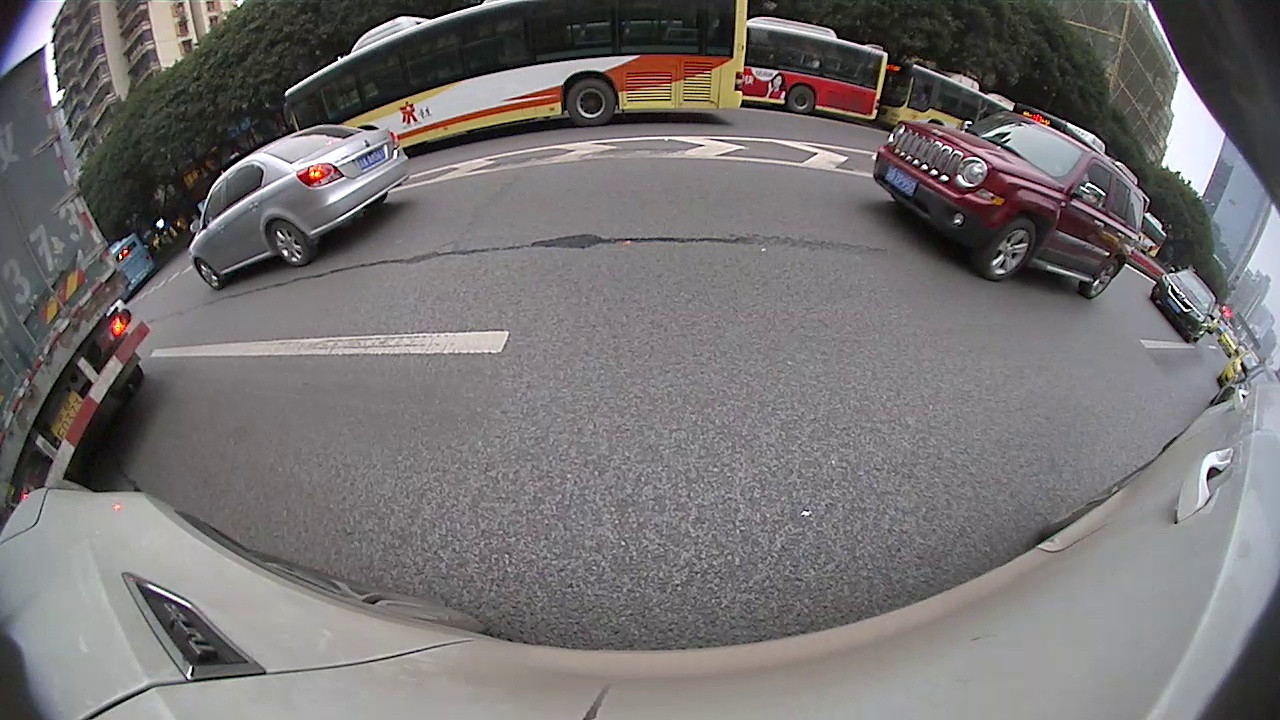bus: (283, 1, 750, 151), (741, 22, 889, 124), (880, 59, 1013, 129), (106, 238, 149, 300)
car: (871, 109, 1140, 302), (189, 120, 408, 293), (1153, 271, 1222, 343)
front: (968, 213, 1039, 282), (193, 257, 225, 293)
rear: (565, 76, 618, 128), (267, 217, 320, 268), (1077, 256, 1121, 301), (786, 84, 817, 116)
truck: (1, 49, 153, 510)
